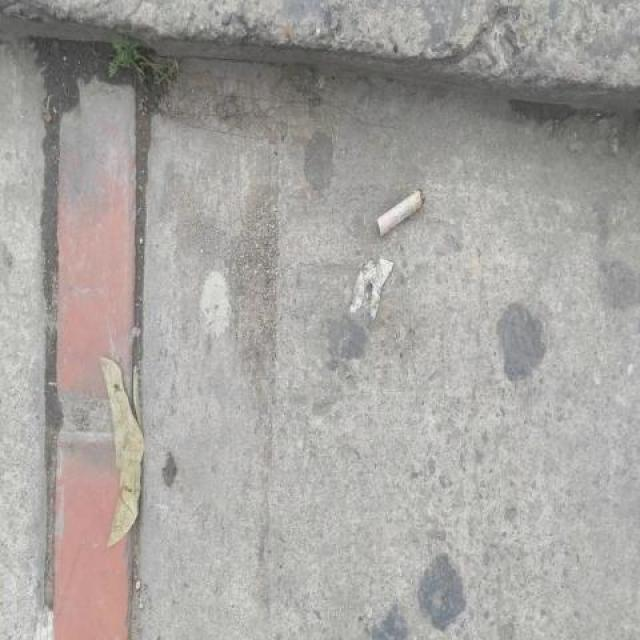non-organic waste: (372, 184, 428, 240)
